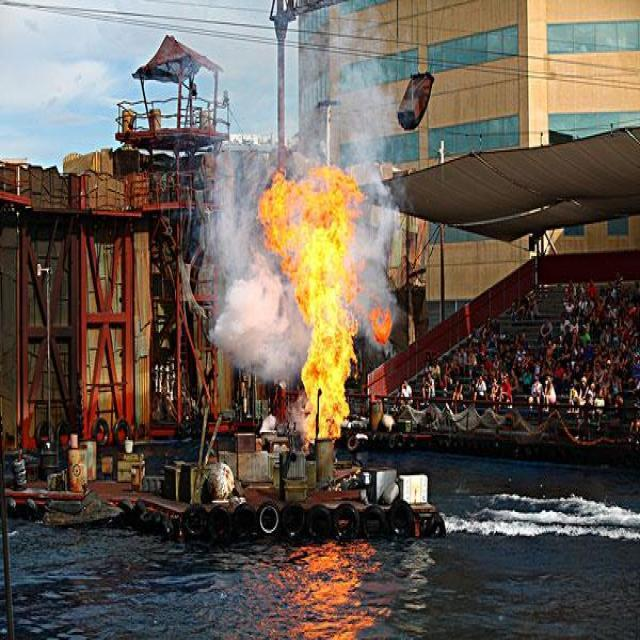fire: (255, 158, 374, 442)
